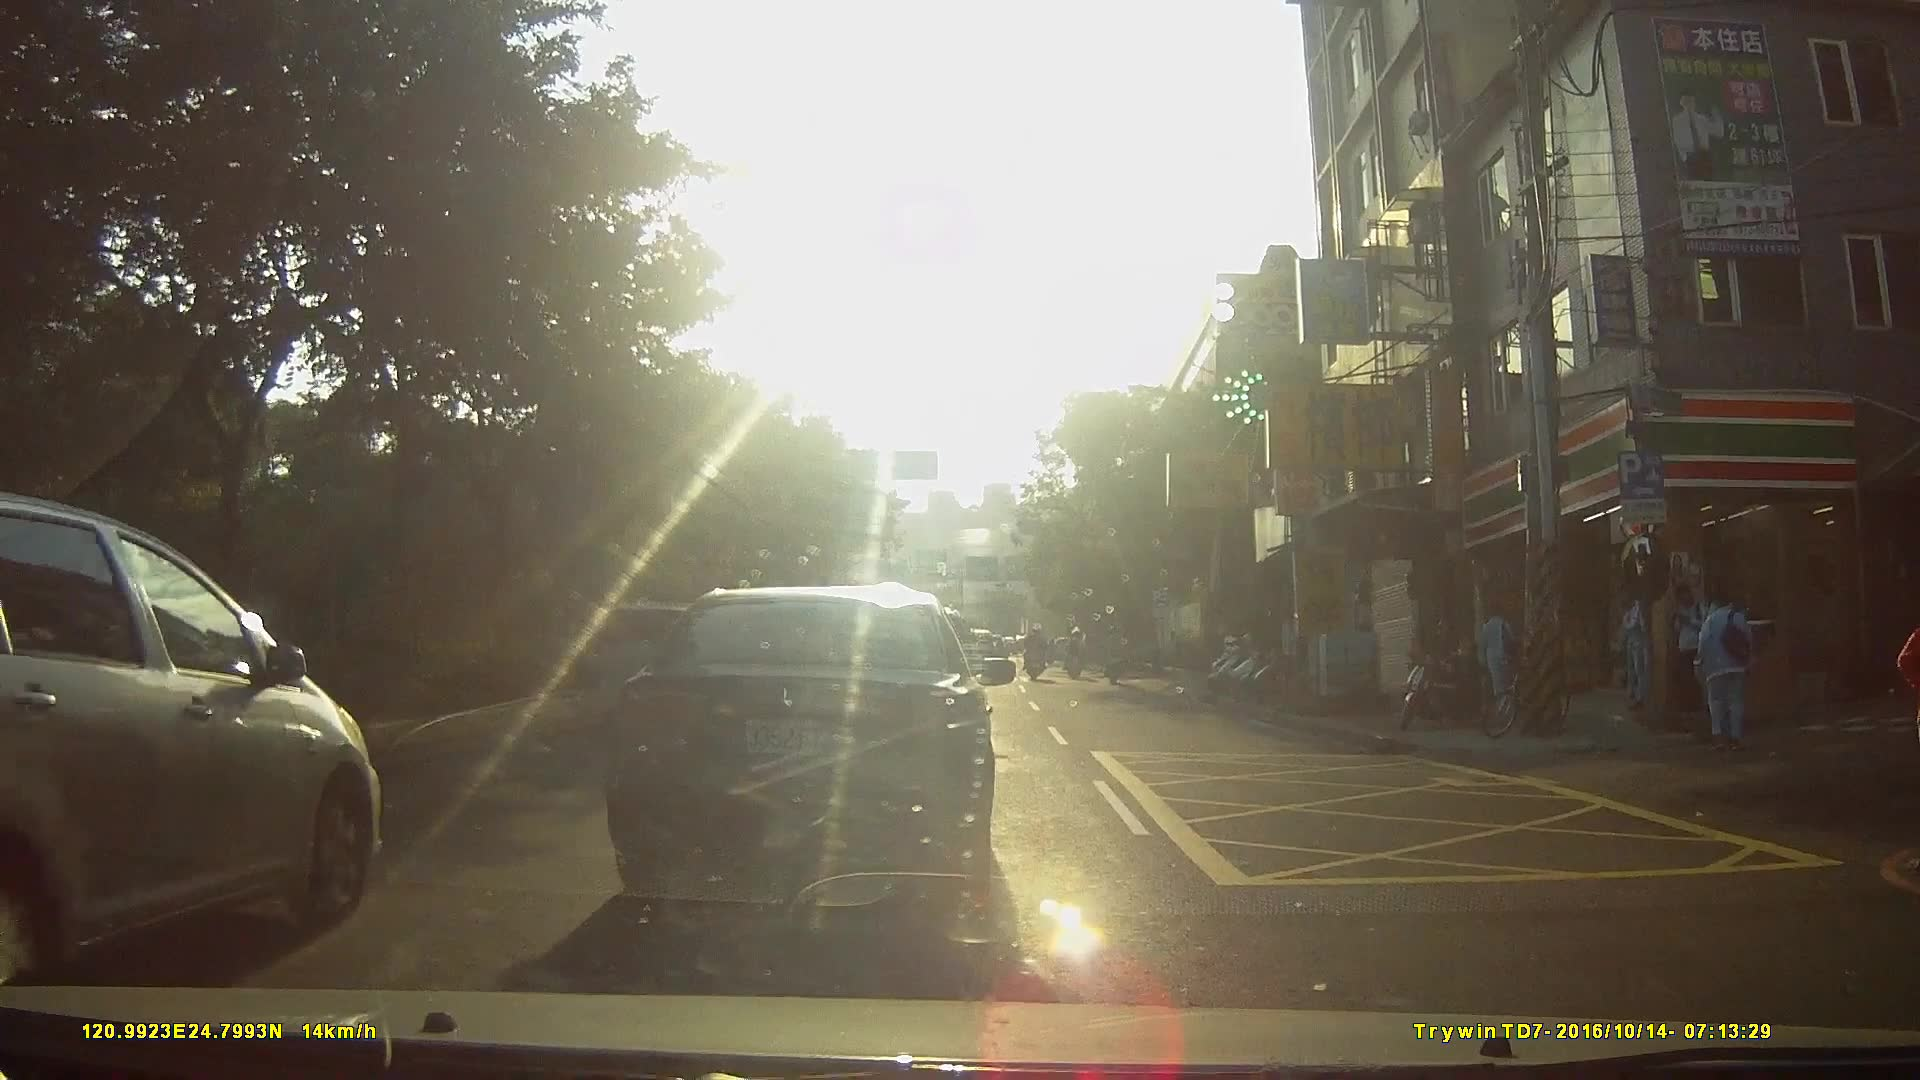pedestrian: (1694, 585, 1763, 752), (1473, 602, 1527, 716), (1901, 567, 1920, 854), (1677, 571, 1713, 710), (1618, 583, 1655, 708)
rider: (1022, 624, 1053, 681), (1063, 622, 1092, 683), (1104, 622, 1129, 688)
vehicle: (1, 499, 438, 994), (584, 575, 1033, 921)
